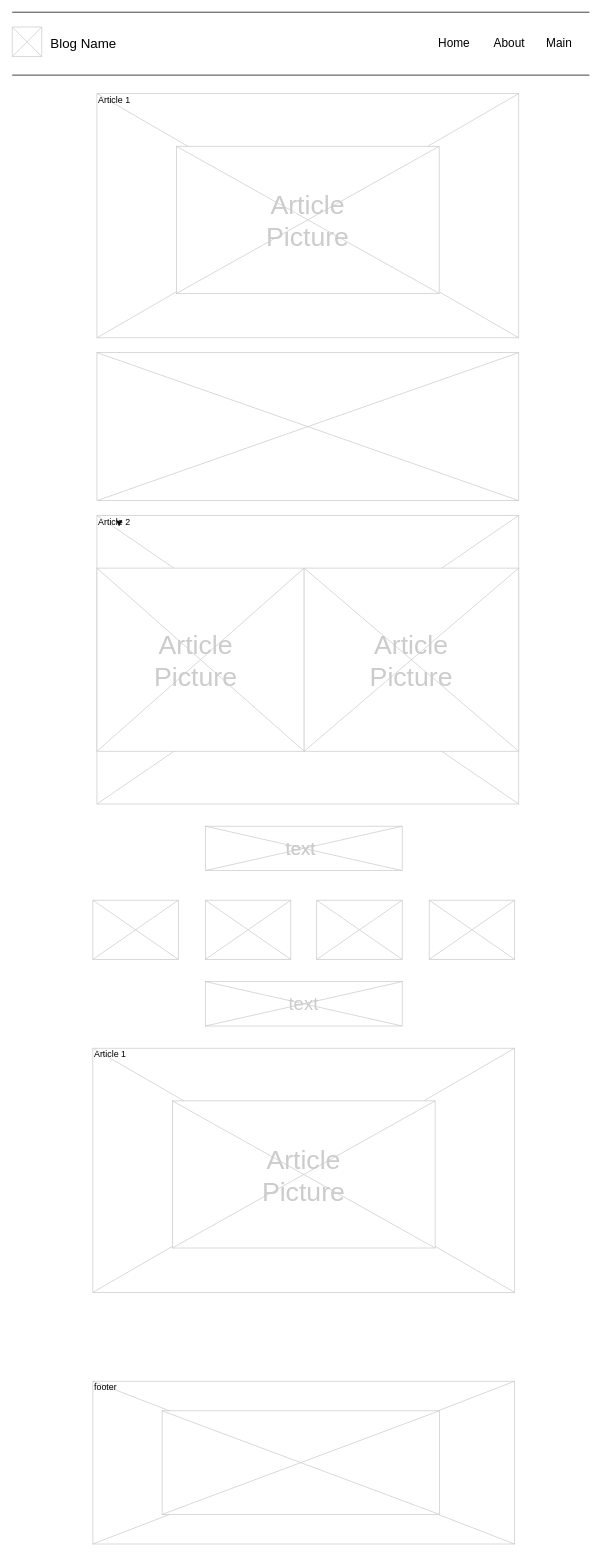
The diagram is 602 pixels wide and 1556 high, and some of its shapes have lost their labels. Each missing label, with the centre of its shape:
"Blog Logo" goes at (26,41).
"Contact" goes at (300,1462).
"Some Text" goes at (307,426).
